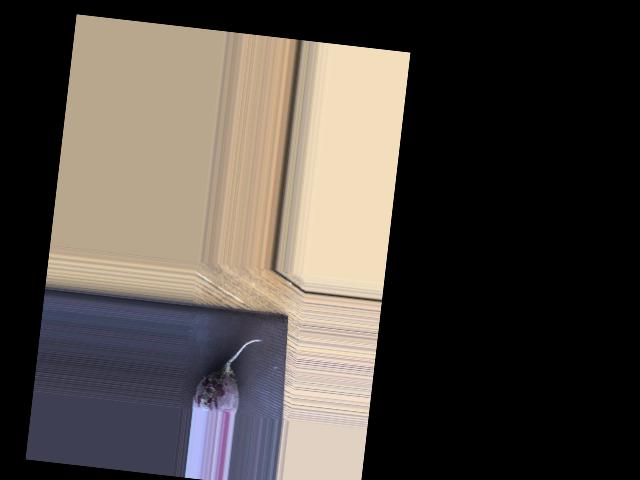beet: (191, 332, 261, 416)
